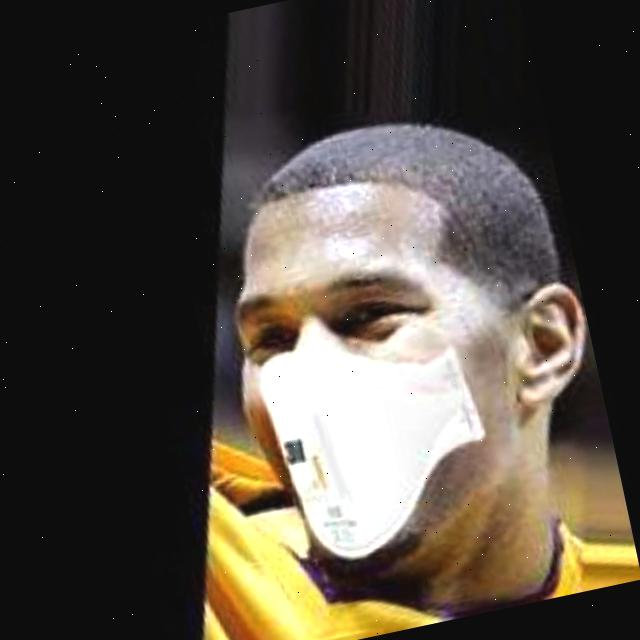suspicion: (199, 148, 548, 580)
